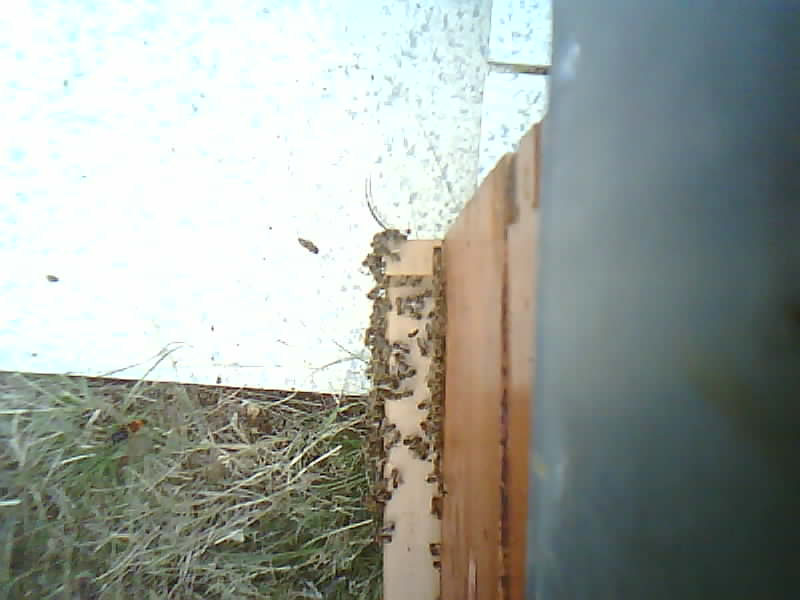bee: (361, 281, 416, 503), (426, 288, 449, 468), (369, 223, 405, 259), (432, 246, 457, 279), (425, 538, 450, 568), (297, 233, 325, 258), (428, 480, 448, 512)
hornet: (100, 422, 141, 450)
